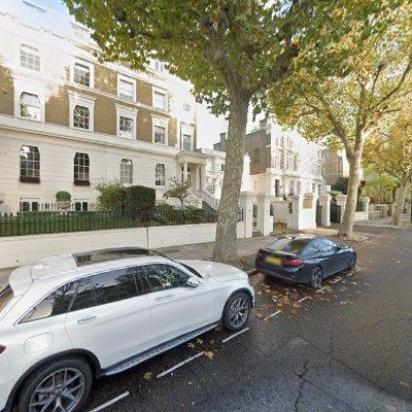stationary-car-onstreet: (0, 244, 256, 412), (255, 232, 357, 286)
